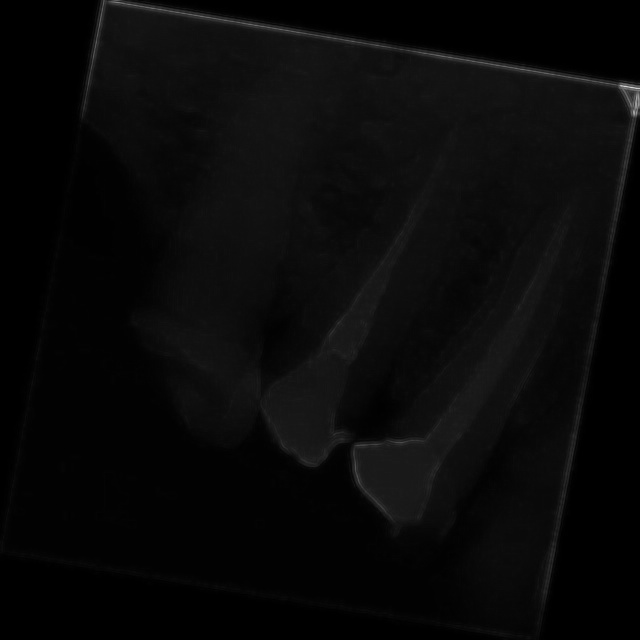Class 0- No endodontic treatment: (420, 144, 618, 599)
Class 1- complete endodontic treatment: (291, 43, 502, 440)
